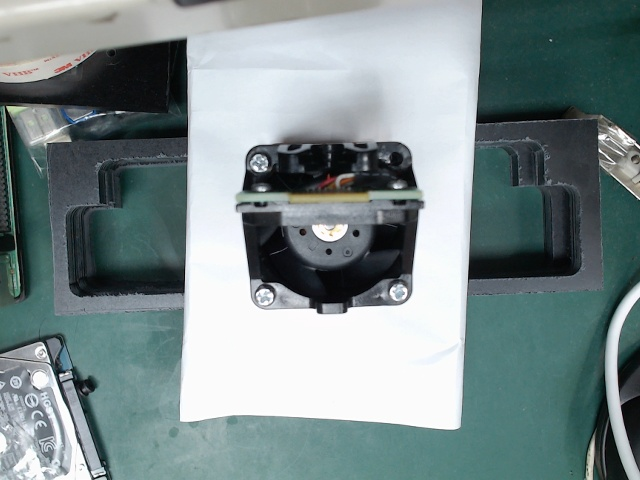Phase1_OK: (215, 121, 438, 329)
